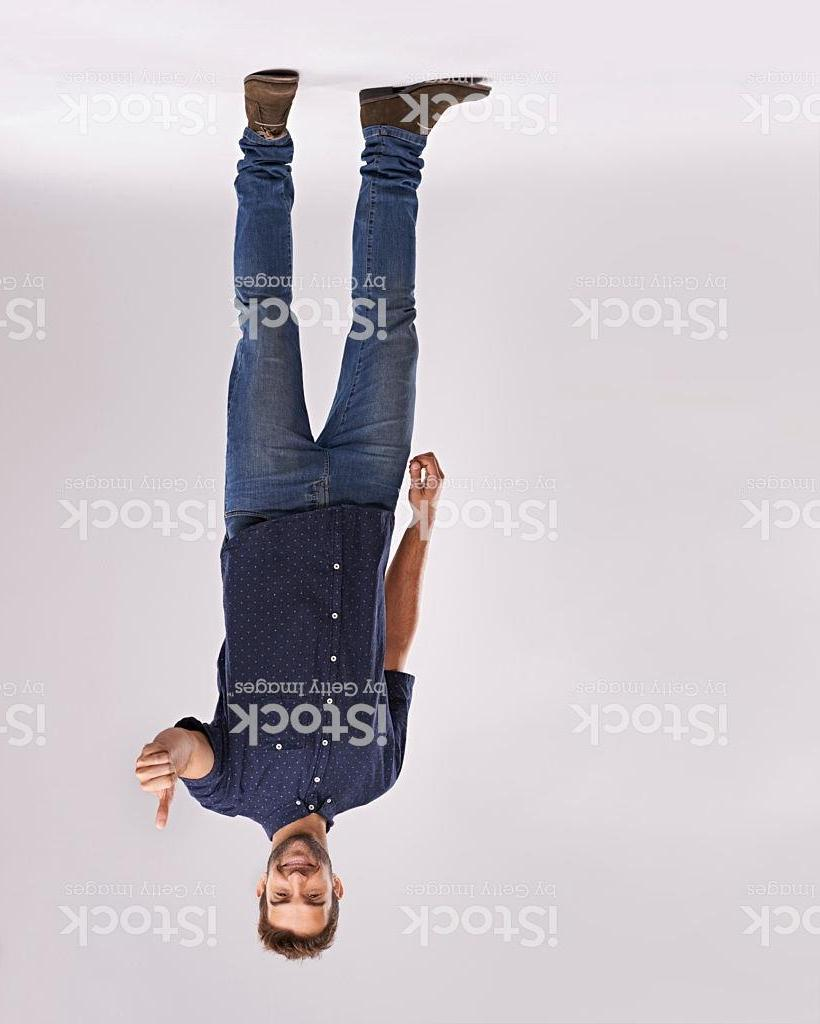thumbsdown: (134, 741, 178, 831)
